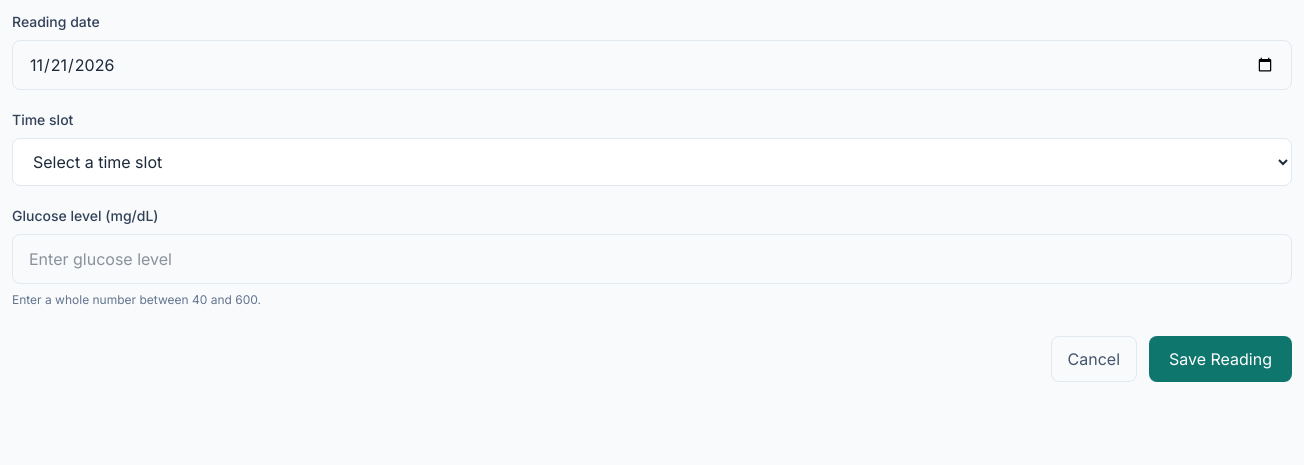
Test: ReadingForm › displays an error when submission fails
The width and height of the screenshot is (1304, 465).
Select "Morning" in the dropdown labelled "Time slot" at (652, 162), box [12, 138, 1292, 186]
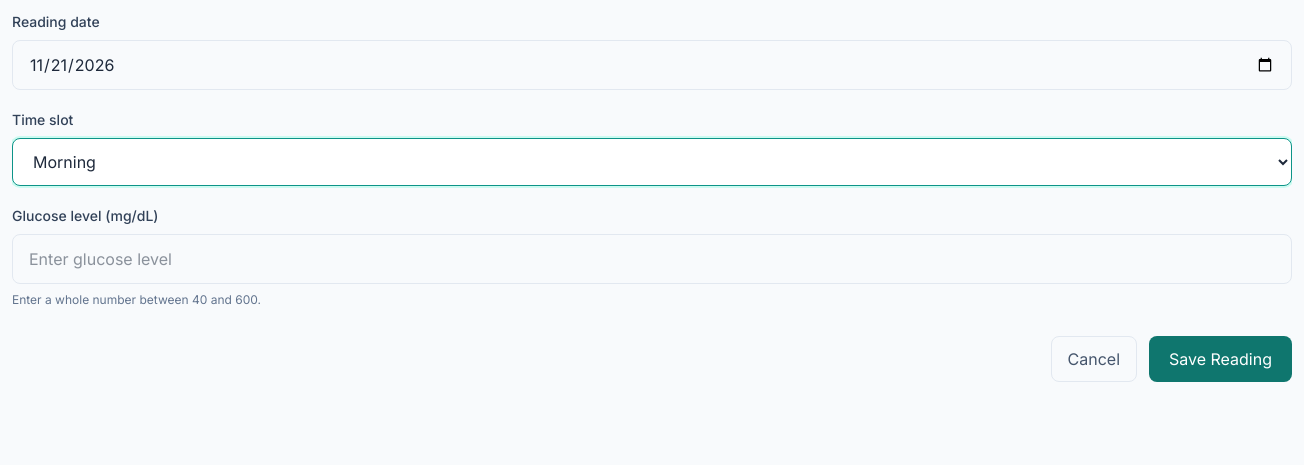
Type "120" into the number field labelled "Glucose level (mg/dL)" at (652, 259), box [12, 234, 1292, 284]
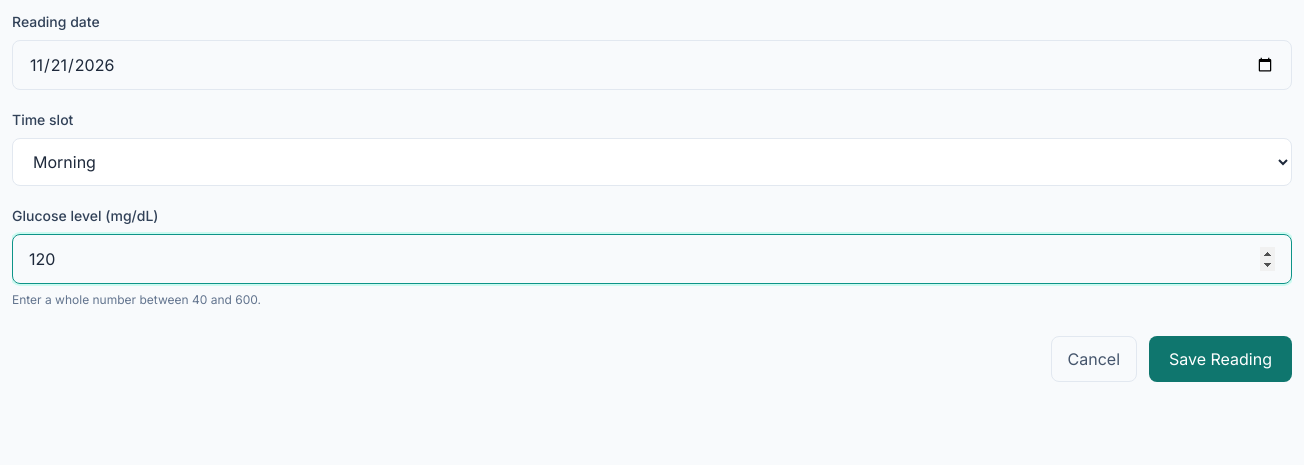
Click the button "Save Reading" at (1220, 359), box [1149, 336, 1292, 382]
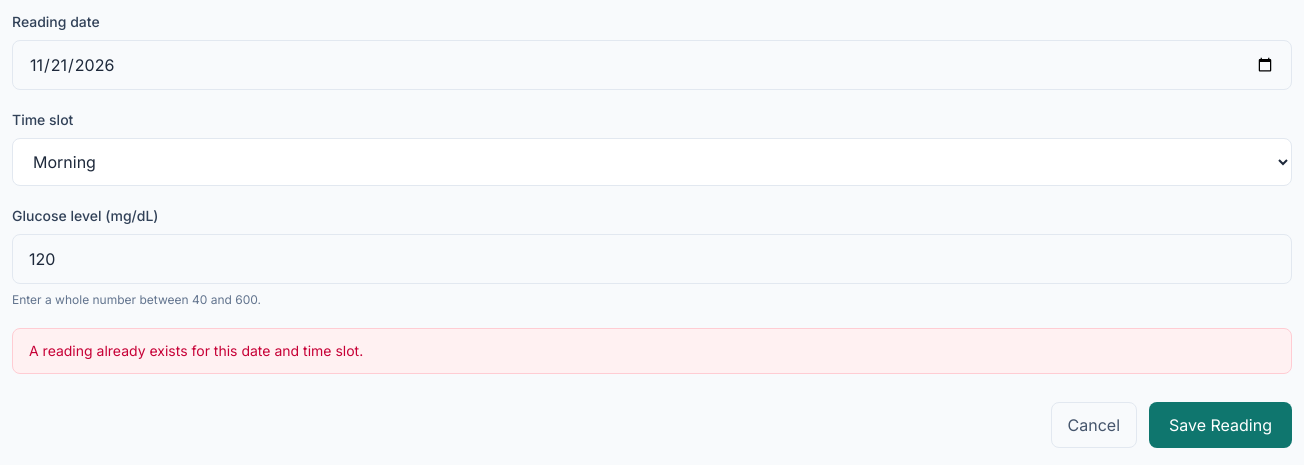
Expected: the message shows "already exists", [29, 342, 363, 359]
